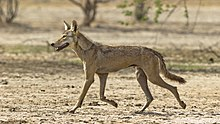wolf: (51, 21, 194, 119)
